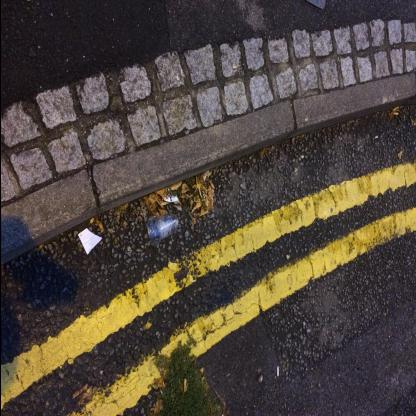kagit: (76, 228, 101, 256), (162, 192, 178, 202)
plastik: (146, 214, 178, 247)
